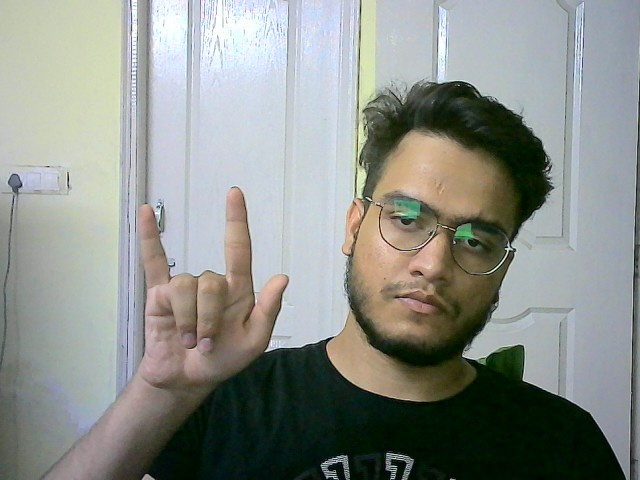I Love You: (135, 180, 294, 392)
